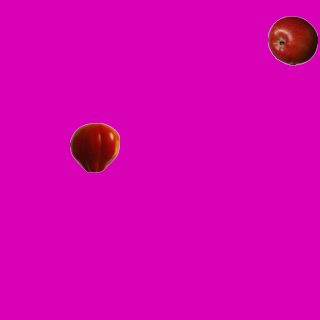Apple Braeburn: (267, 15, 317, 65)
Tomato 1: (69, 122, 119, 172)
